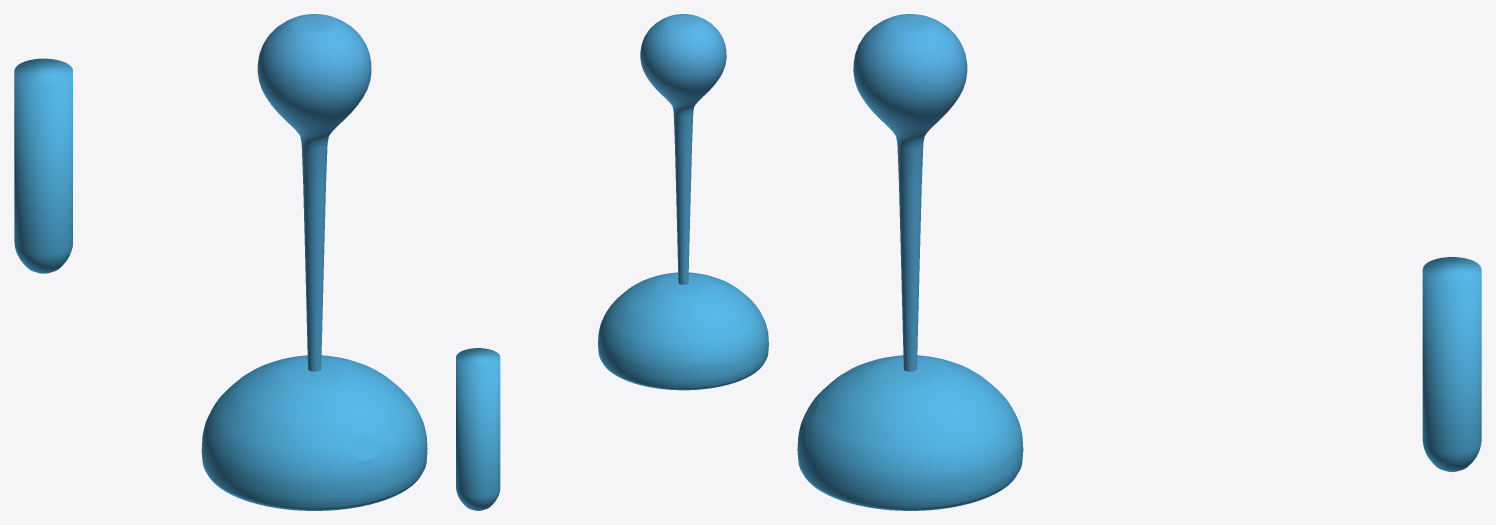
The picture shows the model from 3 angles, left to right: view 1: azimuth 30°, elevation 25°; view 2: azimuth 150°, elevation 25°; view 3: azimuth 270°, elevation 25°; orthographic projection. The views are drawn at different scales.
Parts seen in each view (by area): view 1: LqKippa1, LqKippa2, Lq1Probirka; view 2: LqKippa1, LqKippa2, Lq1Probirka; view 3: LqKippa1, LqKippa2, Lq1Probirka.
Part boxes in pixels (bbox=[...]): LqKippa1: bbox=[201, 355, 427, 510]; LqKippa2: bbox=[257, 14, 371, 371]; Lq1Probirka: bbox=[14, 58, 72, 273]; LqKippa1: bbox=[598, 272, 768, 390]; LqKippa2: bbox=[640, 14, 726, 284]; Lq1Probirka: bbox=[456, 348, 500, 510]; LqKippa1: bbox=[797, 355, 1023, 510]; LqKippa2: bbox=[853, 14, 967, 371]; Lq1Probirka: bbox=[1422, 257, 1481, 472].
Bounding box in the file's own units: 2.24 × 4.88 × 6.77.
